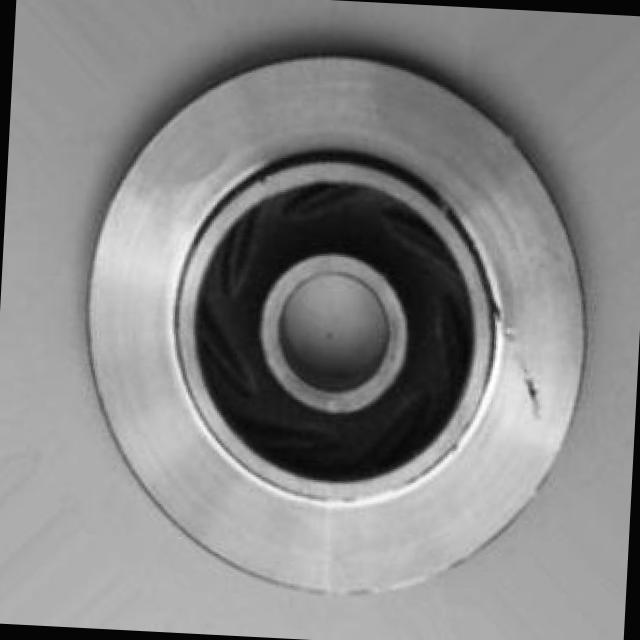Defect: (512, 364, 551, 422)
